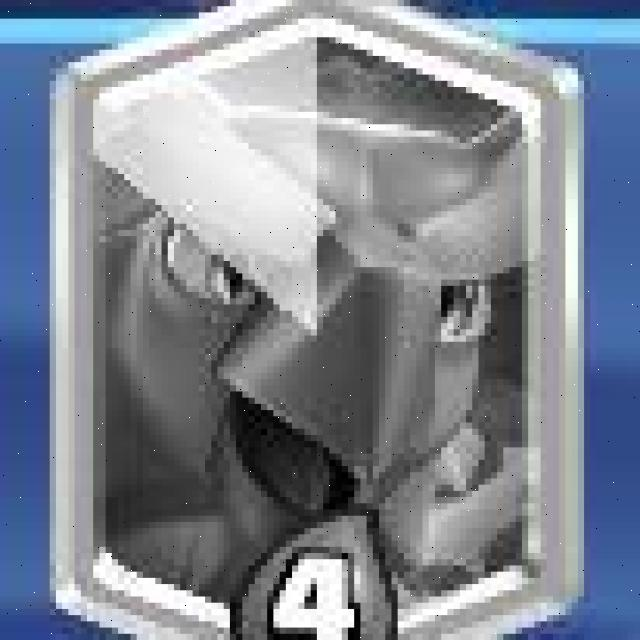Phoenix: (38, 5, 579, 640)
